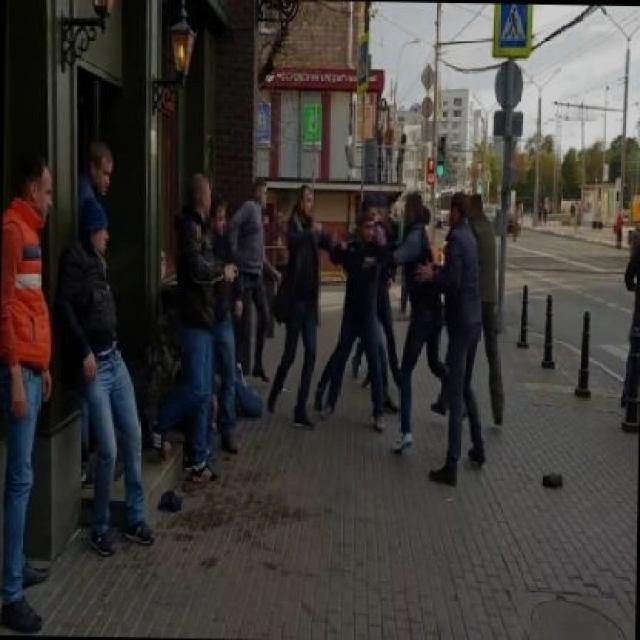fight: (309, 187, 451, 476)
non-fight: (57, 135, 165, 557), (0, 134, 62, 634), (161, 169, 254, 485), (435, 189, 508, 489), (265, 180, 349, 428), (620, 194, 638, 437)
